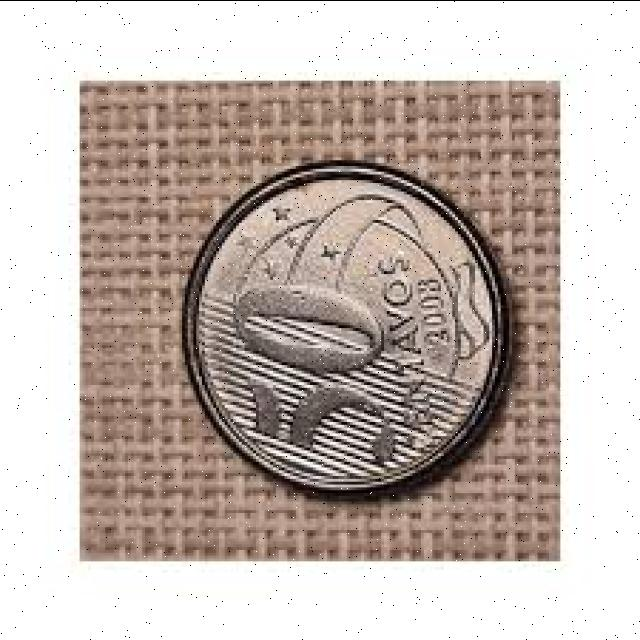50 cent: (175, 152, 507, 496)
